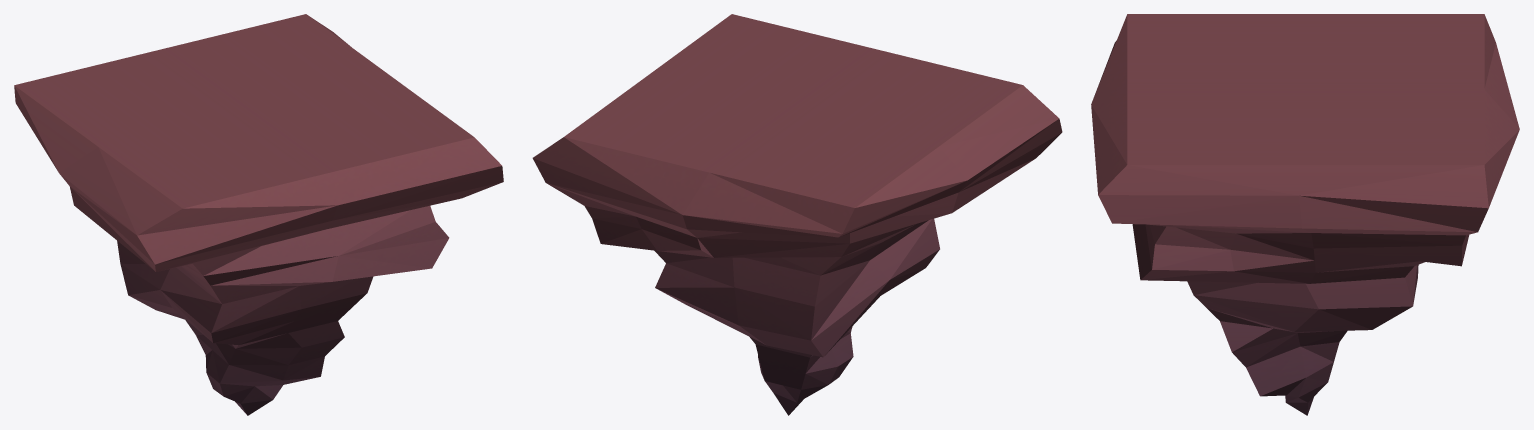
File: island_rock_base.dae
3 renders of one model, left to right at view 1: azimuth 30°, elevation 25°; view 2: azimuth 150°, elevation 25°; view 3: azimuth 270°, elevation 25°, orthographic. The views are drawn at different scales.
Visible parts, largest first — view 1: IslandRockBase; view 2: IslandRockBase; view 3: IslandRockBase.
Boxes of the visible parts, x1,y1,x2,y2 form: IslandRockBase: (14, 14, 503, 415); IslandRockBase: (532, 14, 1062, 415); IslandRockBase: (1091, 14, 1519, 415).
Bounding box in the file's own units: 19.85 × 19.21 × 16.03.
Materials: 1 (1 with a texture image).
